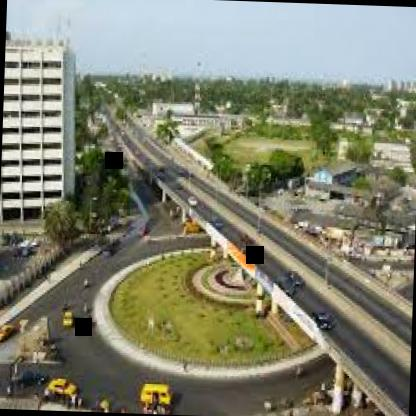car: (304, 306, 342, 338), (62, 308, 80, 344), (276, 274, 300, 299)
